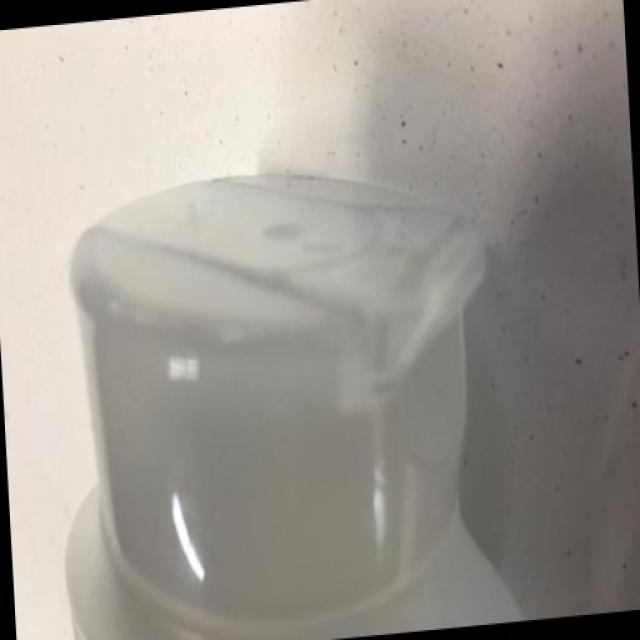plastico: (48, 140, 558, 634)
